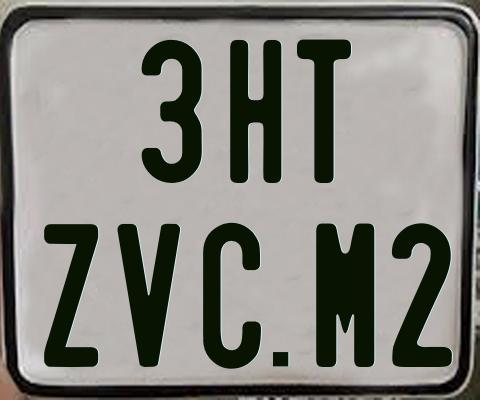2: (389, 220, 455, 369)
3: (140, 40, 203, 188)
C: (203, 220, 267, 366)
H: (227, 40, 281, 186)
M: (314, 222, 372, 369)
T: (297, 37, 356, 185)
V: (116, 223, 182, 371)
Z: (43, 222, 101, 368)
